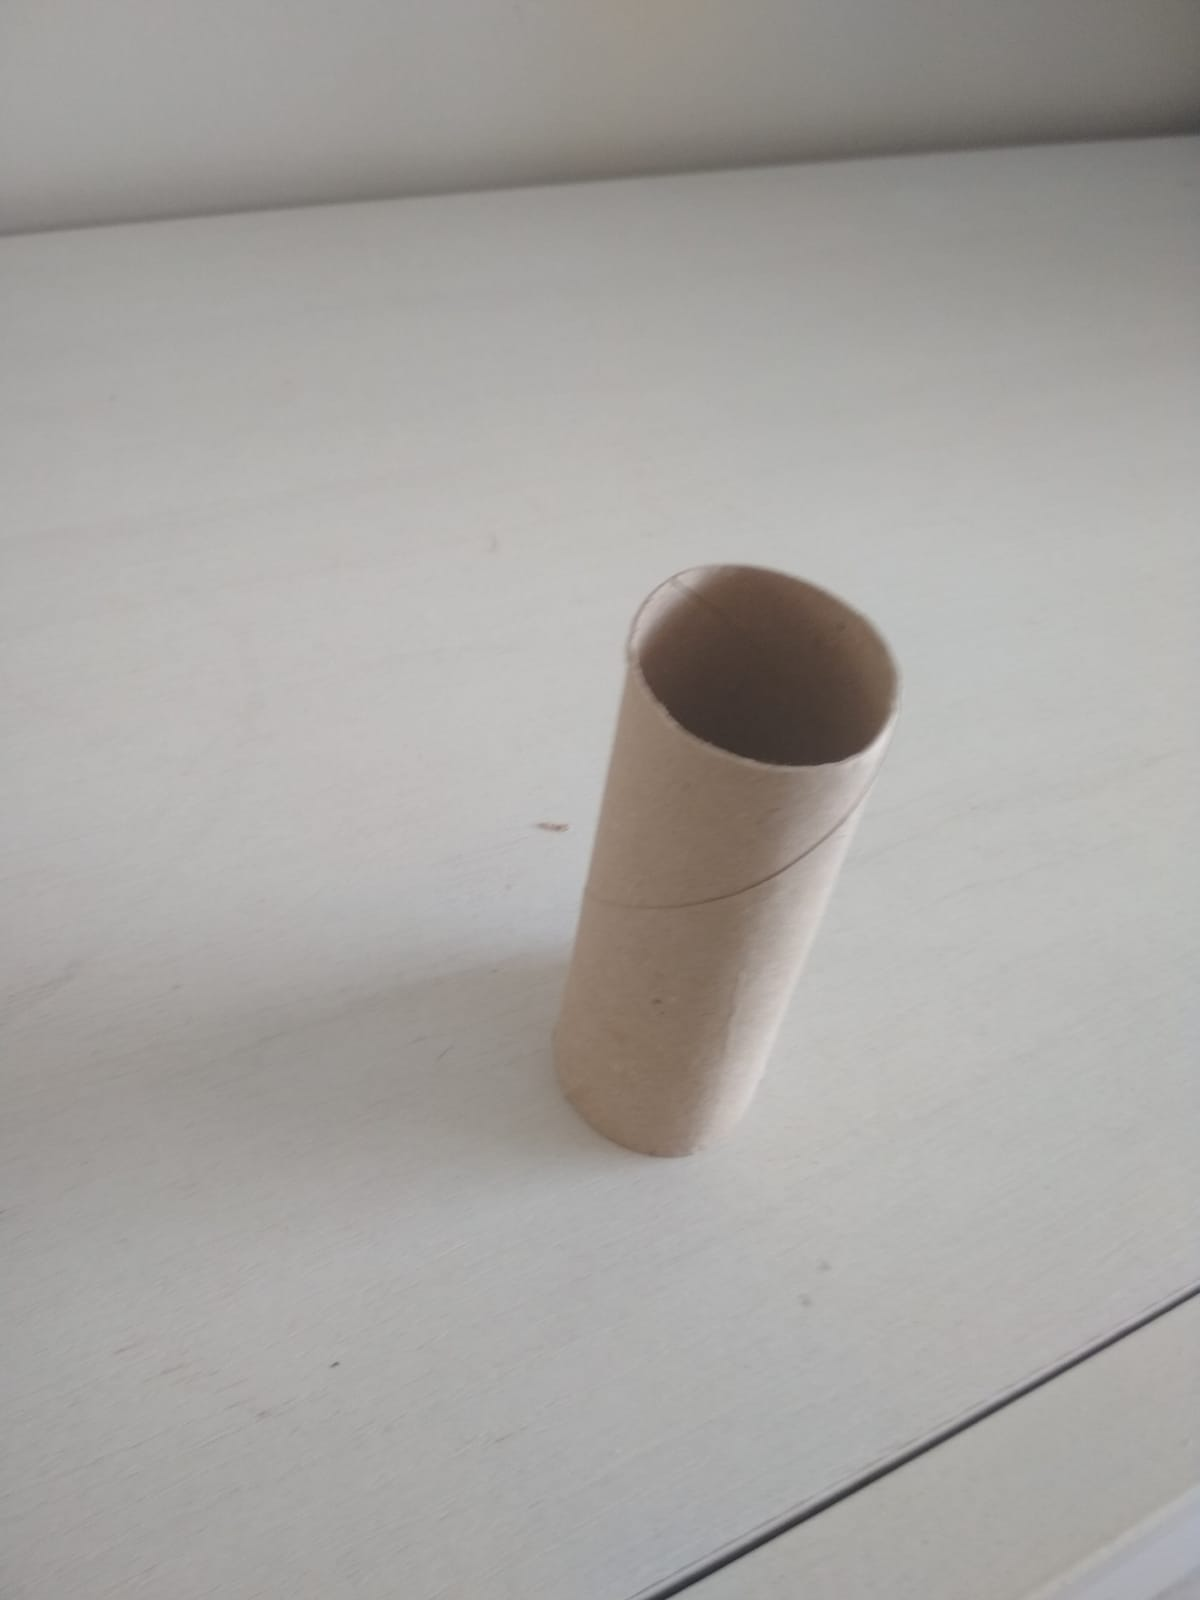rollo papel: (547, 556, 908, 1155)
